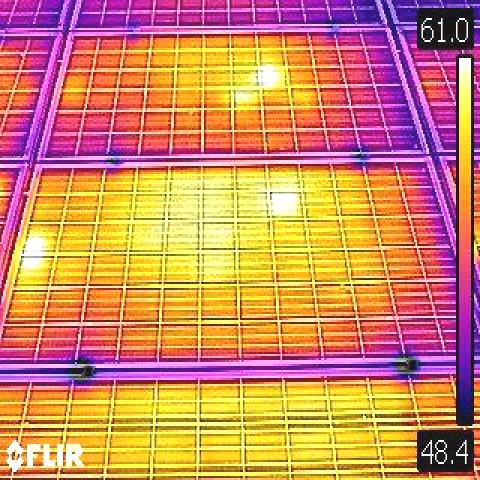fault: (24, 238, 42, 270), (272, 193, 297, 215), (260, 66, 285, 86)
